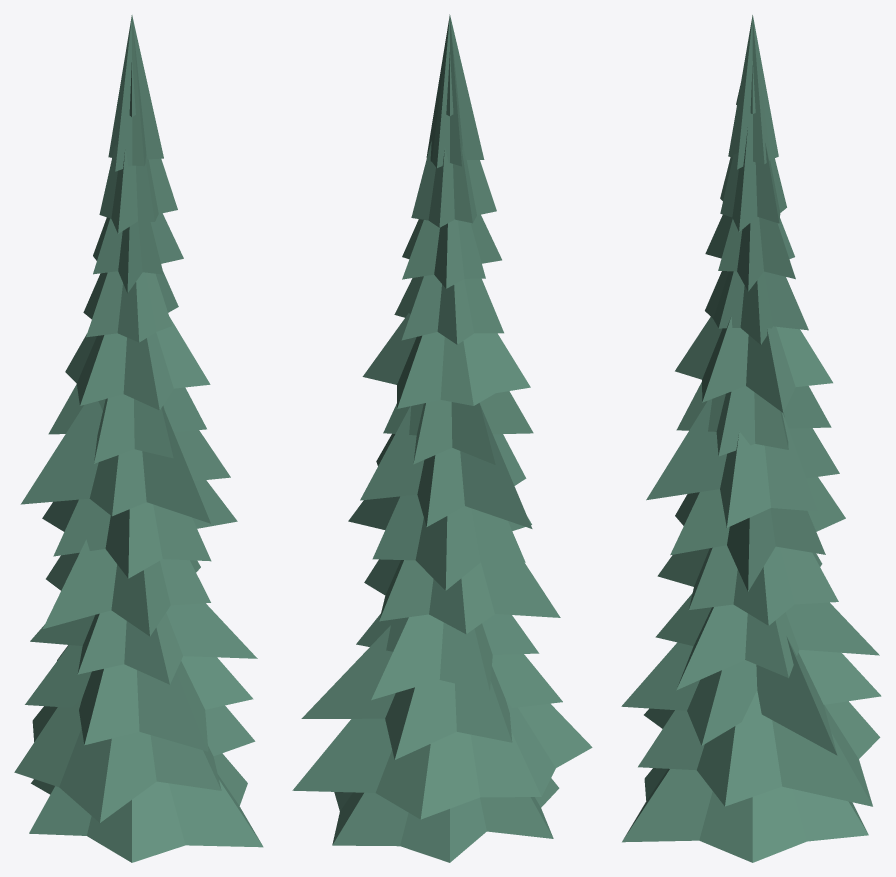
The model's file is mature-norway-spruce.glb.
3 renders of one model, left to right at view 1: azimuth 30°, elevation 25°; view 2: azimuth 150°, elevation 25°; view 3: azimuth 270°, elevation 25°, orthographic.
Visible parts, largest first — view 1: norway-spruce-mature; view 2: norway-spruce-mature; view 3: norway-spruce-mature.
Boxes of the visible parts, <box> form: norway-spruce-mature: <box>14,15,263,862</box>; norway-spruce-mature: <box>292,14,592,862</box>; norway-spruce-mature: <box>621,15,881,862</box>.
Size of the model in its own units: 6.59 by 23.13 by 6.8.
